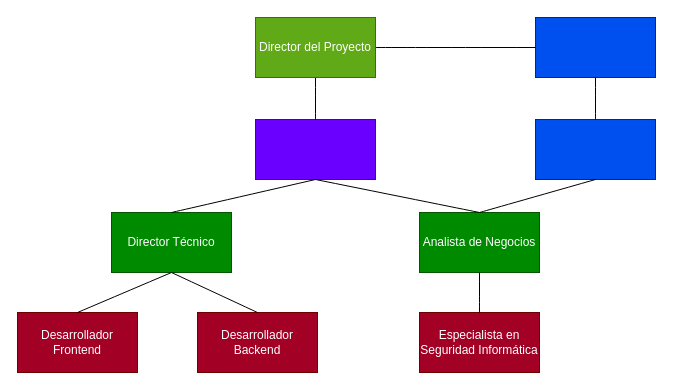
The diagram is 673 pixels wide and 390 high, and some of its shapes have lost their labels. The box of each missing label's shape, as (x1, y1, x2, y2) in pixels:
Clientes: (534, 118, 656, 180)
Dirección de Clientes: (534, 16, 656, 78)
Jefe de Proyecto: (254, 118, 376, 180)
